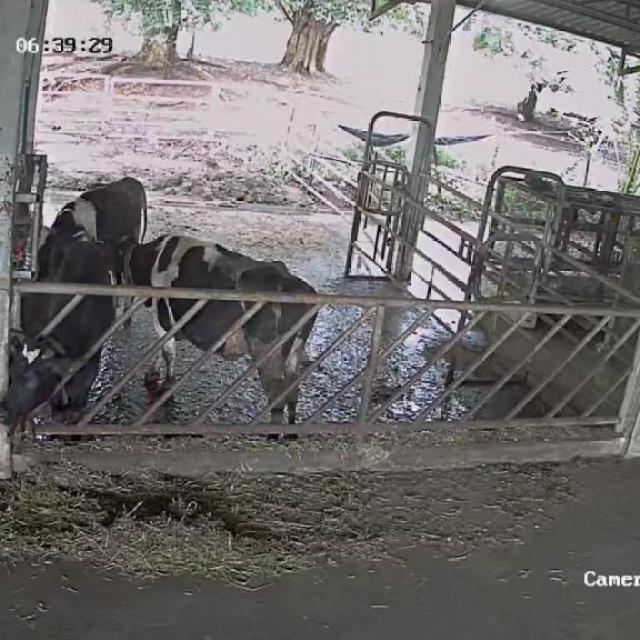feeding: (0, 225, 116, 443)
standing: (114, 221, 324, 441), (8, 177, 148, 332)
